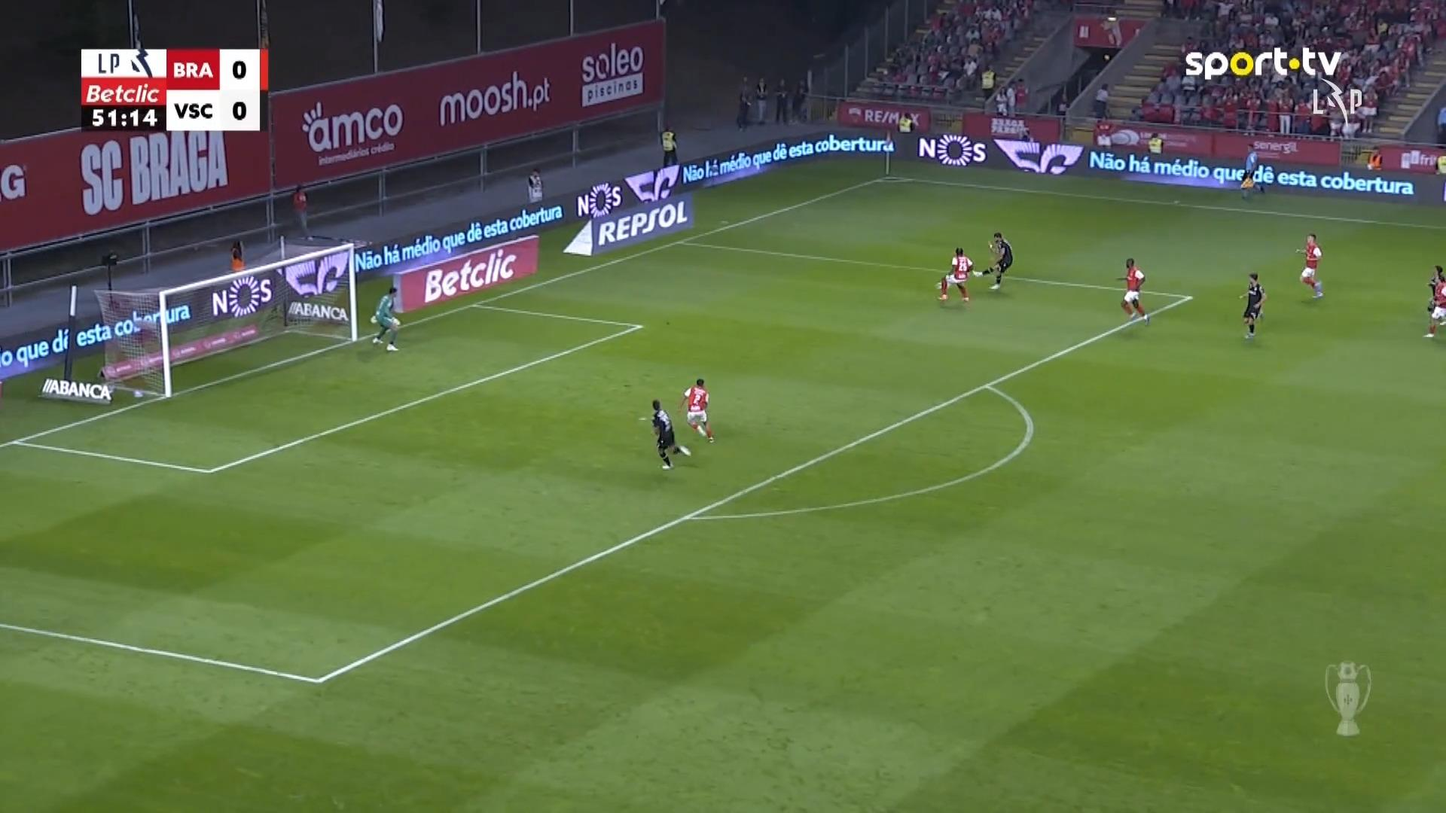goalkeeper: (369, 285, 401, 352)
player: (649, 398, 690, 470), (935, 246, 978, 302), (679, 377, 715, 443), (1115, 257, 1149, 324), (1295, 233, 1324, 298), (1238, 272, 1266, 338), (983, 231, 1013, 289), (1422, 264, 1445, 338)
referee: (1238, 141, 1262, 200)
